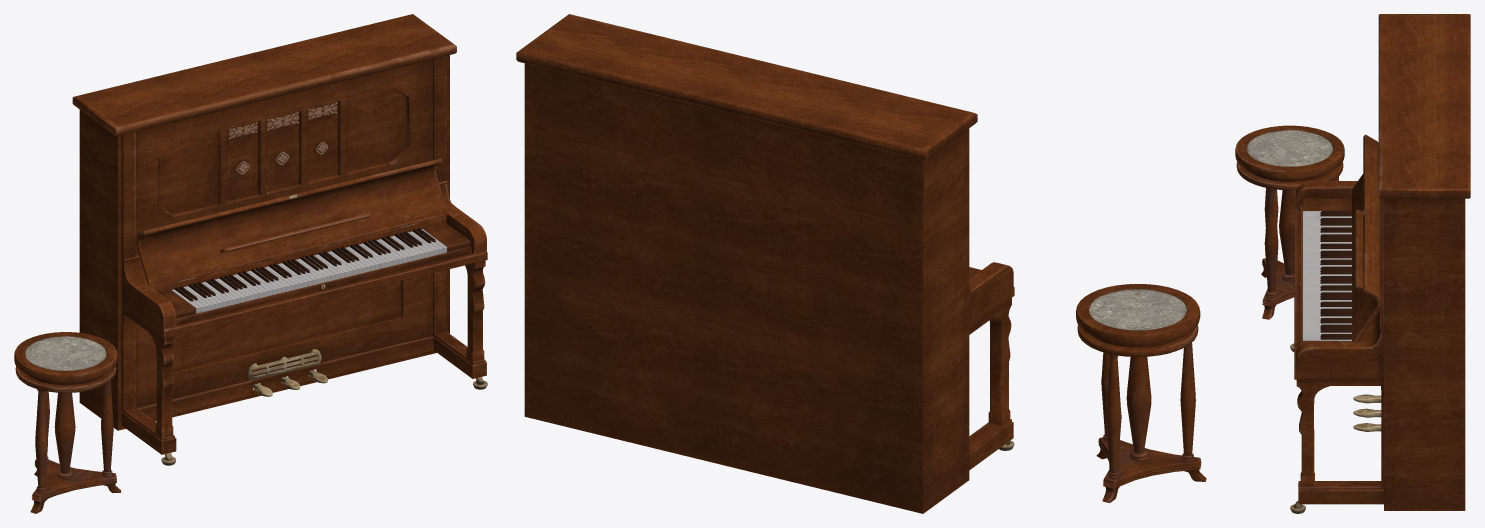
File: retropiano-transformed.glb
The picture shows the model from 3 angles, left to right: view 1: azimuth 30°, elevation 25°; view 2: azimuth 150°, elevation 25°; view 3: azimuth 270°, elevation 25°; orthographic projection. The views are drawn at different scales.
Visible parts, largest first — view 1: Object_6; view 2: Object_6; view 3: Object_6.
Boxes of the visible parts, box(x1,y1,x2,y2) form: Object_6: box(14, 14, 487, 513); Object_6: box(516, 14, 1206, 513); Object_6: box(1235, 14, 1470, 513).
Size of the model in its own units: 2162 by 1349 by 869.
1 material, 1 textured.
